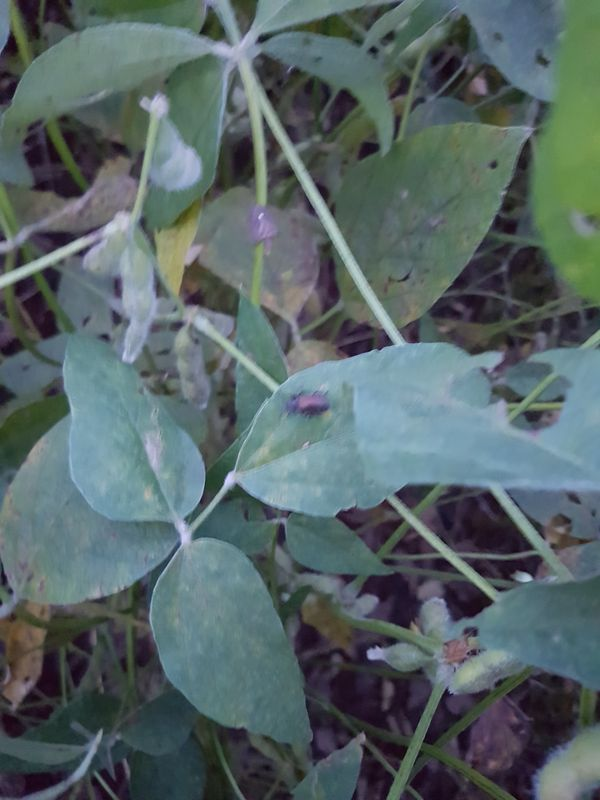Euschistus_heros_adulto: (236, 199, 292, 260), (435, 627, 482, 674)
Lagria_villosa: (278, 383, 335, 427)
